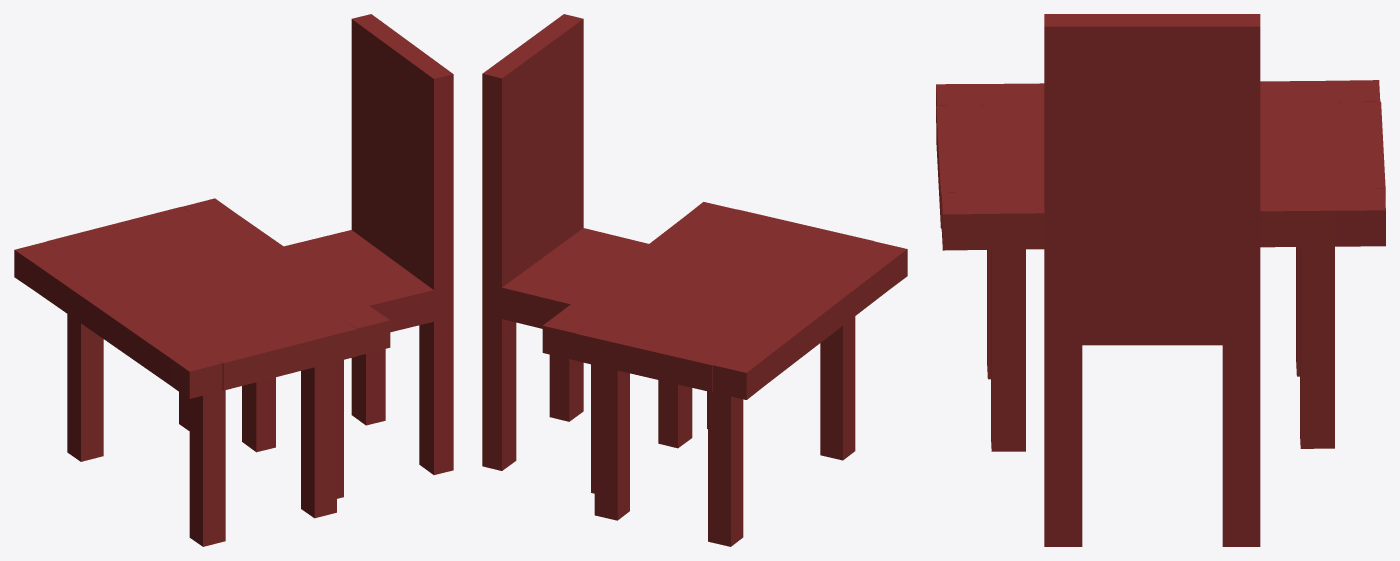
3 renders of one model, left to right at view 1: azimuth 30°, elevation 25°; view 2: azimuth 150°, elevation 25°; view 3: azimuth 270°, elevation 25°, orthographic. The views are drawn at different scales.
Parts seen in each view (by area): view 1: Cube; view 2: Cube; view 3: Cube.
Part boxes in pixels (left/top/right/bottom): Cube: left=14, top=14, right=453, bottom=546; Cube: left=482, top=14, right=907, bottom=546; Cube: left=936, top=14, right=1385, bottom=546.
Bounding box in the file's own units: 13.72 × 16.66 × 13.06.
